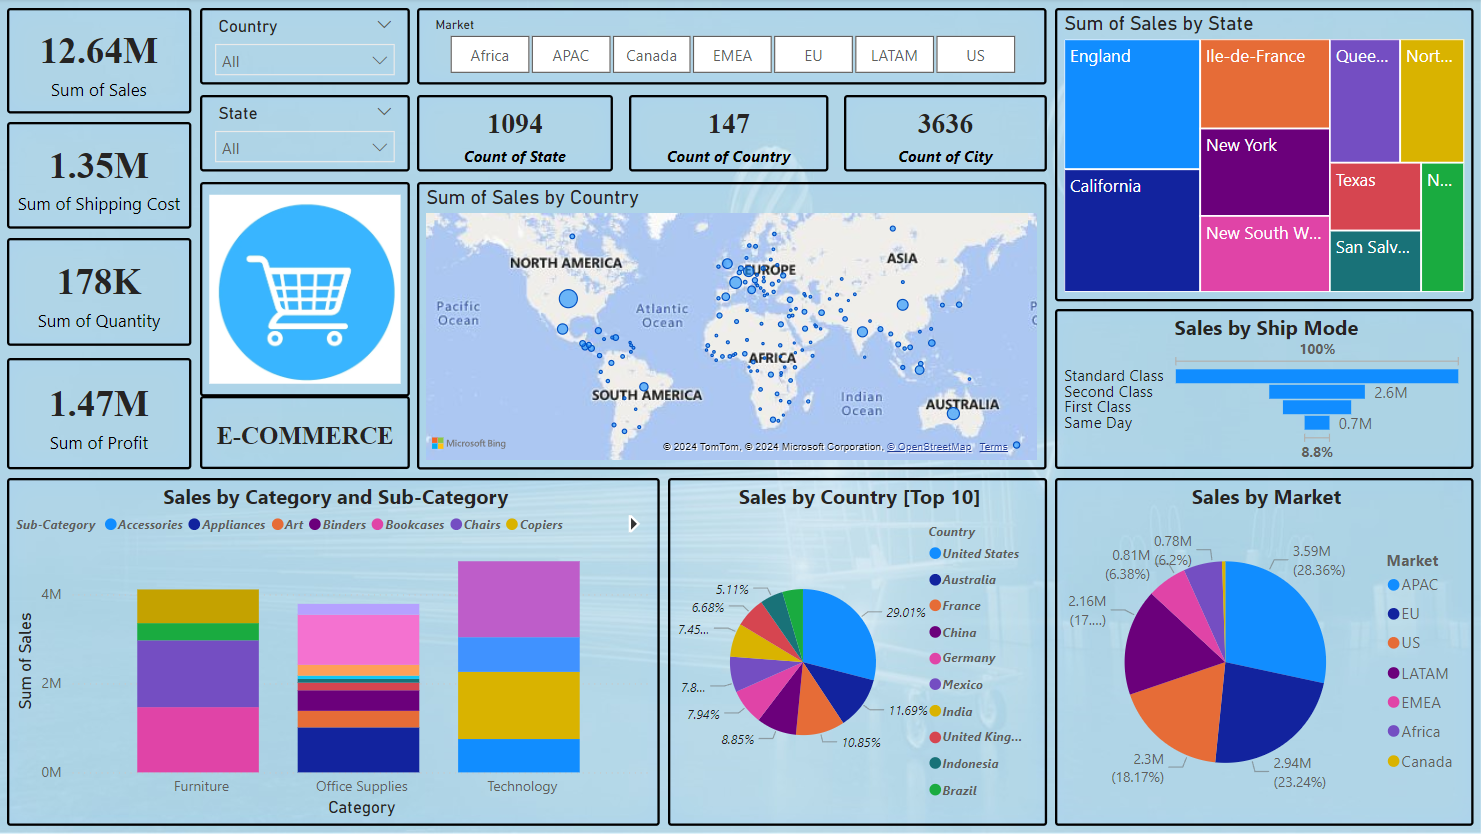

The page's visual inventory and layout, read from the dashboard file:
{"tool":"powerbi","page":{"name":"Dashboard","canvas":[1280,720],"ordinal":0},"visuals":[{"type":"image","box":[0,0.9,1280,719.4],"z":0},{"type":"columnChart","title":"Sales by Category and Sub-Category","fields":{"Category":["ECOMM DATA.Category"],"Y":["Sum(ECOMM DATA.Sales)"],"Series":["ECOMM DATA.Sub-Category"]},"box":[7.8,413.4,563.2,299.6],"z":2000},{"type":"pieChart","title":"Sales by Market","fields":{"Y":["Sum(ECOMM DATA.Sales)"],"Category":["ECOMM DATA.Market"]},"box":[911.4,413.4,360.9,299.6],"z":3000},{"type":"funnel","title":"Sales by Ship Mode","fields":{"Category":["ECOMM DATA.Ship Mode"],"Y":["Sum(ECOMM DATA.Sales)"]},"box":[911.4,267.5,360.9,138.1],"z":4000},{"type":"map","fields":{"Category":["ECOMM DATA.Country"],"Size":["Sum(ECOMM DATA.Sales)"]},"box":[361.8,157.6,542.7,248],"z":5000},{"type":"treemap","fields":{"Values":["Sum(ECOMM DATA.Sales)"],"Group":["ECOMM DATA.State"]},"box":[911.4,7.8,360.9,252.9],"z":6000},{"type":"card","fields":{"Values":["Sum(ECOMM DATA.Sales)"]},"box":[7.8,7.8,158.5,91.4],"z":7000},{"type":"card","fields":{"Values":["Sum(ECOMM DATA.Profit)"]},"box":[7.8,309.3,158.5,96.3],"z":8000},{"type":"card","fields":{"Values":["Sum(ECOMM DATA.Quantity)"]},"box":[7.8,206.2,158.5,93.4],"z":9000},{"type":"card","fields":{"Values":["Sum(ECOMM DATA.Shipping Cost)"]},"box":[7.8,106,158.5,92.4],"z":10000},{"type":"card","fields":{"Values":["Count(ECOMM DATA.City)"]},"box":[729.5,82.7,175.1,66.1],"z":11000},{"type":"card","fields":{"Values":["Count(ECOMM DATA.Country)"]},"box":[544.7,82.7,172.2,66.1],"z":12000},{"type":"slicer","fields":{"Values":["ECOMM DATA.Market"]},"box":[361.8,7.8,542.7,66.1],"z":13000},{"type":"slicer","fields":{"Values":["ECOMM DATA.Country"]},"box":[174.1,7.8,180.9,66.1],"z":14000},{"type":"slicer","fields":{"Values":["ECOMM DATA.State"]},"box":[174.1,82.7,180.9,66.1],"z":15000},{"type":"card","fields":{"Values":["Count(ECOMM DATA.State)"]},"box":[361.8,82.7,169.2,66.1],"z":16000},{"type":"pieChart","title":"Sales by Country [Top 10]","fields":{"Y":["Sum(ECOMM DATA.Sales)"],"Category":["ECOMM DATA.Country"]},"box":[577.8,413.4,326.8,299.6],"z":17000},{"type":"image","box":[174.2,157.8,181.1,184.6],"z":17001},{"type":"textbox","box":[174.2,342.4,181.1,63],"z":17002}]}

Visuals, with their boxes in screenshot pixels (x1, y1, x2, y2), scaled from the page's 1280x720 canvas onto the 1481x834 screenshot:
image: rect(0, 1, 1480, 833)
"Sales by Category and Sub-Category" columnChart: rect(9, 479, 661, 826)
"Sales by Market" pieChart: rect(1055, 479, 1472, 826)
"Sales by Ship Mode" funnel: rect(1055, 310, 1472, 470)
map - ECOMM DATA.Country x Sum(ECOMM DATA.Sales): rect(419, 183, 1047, 470)
treemap - Sum(ECOMM DATA.Sales) x ECOMM DATA.State: rect(1055, 9, 1472, 302)
card - Sum(ECOMM DATA.Sales): rect(9, 9, 192, 115)
card - Sum(ECOMM DATA.Profit): rect(9, 358, 192, 470)
card - Sum(ECOMM DATA.Quantity): rect(9, 239, 192, 347)
card - Sum(ECOMM DATA.Shipping Cost): rect(9, 123, 192, 230)
card - Count(ECOMM DATA.City): rect(844, 96, 1047, 172)
card - Count(ECOMM DATA.Country): rect(630, 96, 829, 172)
slicer - ECOMM DATA.Market: rect(419, 9, 1047, 86)
slicer - ECOMM DATA.Country: rect(201, 9, 411, 86)
slicer - ECOMM DATA.State: rect(201, 96, 411, 172)
card - Count(ECOMM DATA.State): rect(419, 96, 614, 172)
"Sales by Country [Top 10]" pieChart: rect(669, 479, 1047, 826)
image: rect(202, 183, 411, 397)
textbox: rect(202, 397, 411, 470)
